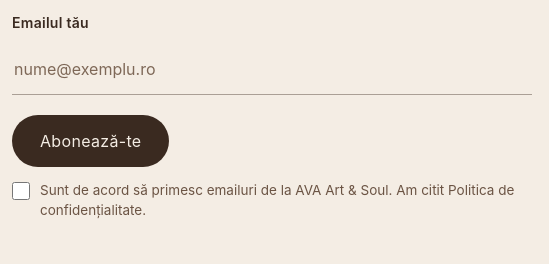
<NewsletterForm> (launch checklist 11, 12, 13) › asks for the consent before subscribing
Type "ana@exemplu.ro" into the field labelled "Emailul tău" at coordinates (272, 69), box [12,43,532,95]
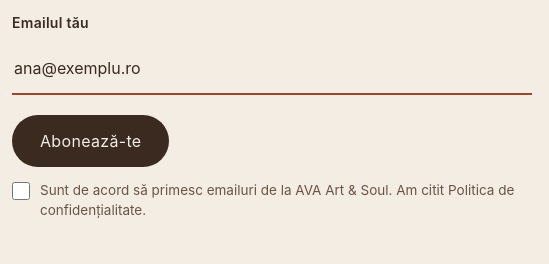
Click the button at coordinates (91, 141), box [12,115,170,167]
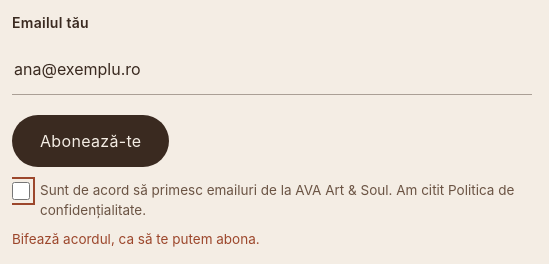
Check: the text "Bifează acordul, ca să te putem abona." is shown, box [12,231,260,247]
